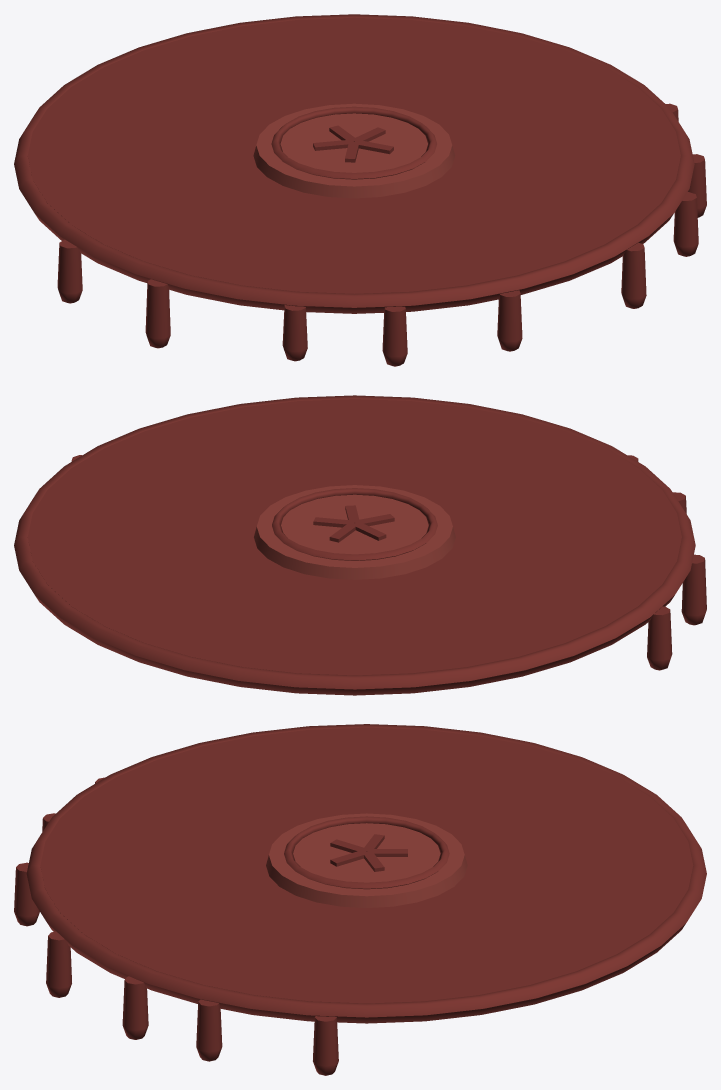
File: cork_wax.glb
The picture shows the model from 3 angles, top to bottom: view 1: azimuth 30°, elevation 25°; view 2: azimuth 150°, elevation 25°; view 3: azimuth 270°, elevation 25°; orthographic projection.
Parts seen in each view (by area): view 1: body; view 2: body; view 3: body.
Part boxes in pixels (left/top/right/bottom): body: left=14, top=14, right=706, bottom=366; body: left=14, top=395, right=706, bottom=695; body: left=14, top=724, right=706, bottom=1075.
Size of the model in its own units: 10.77 by 1.54 by 10.61.
